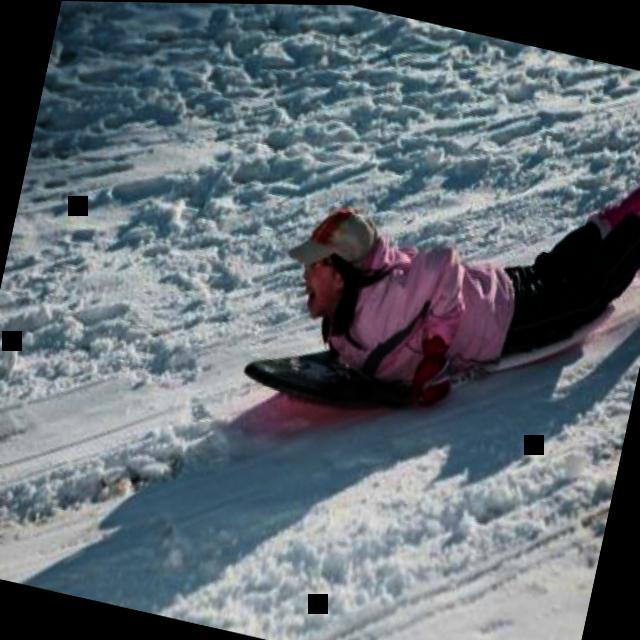Fall-Detected: (253, 67, 640, 469)
